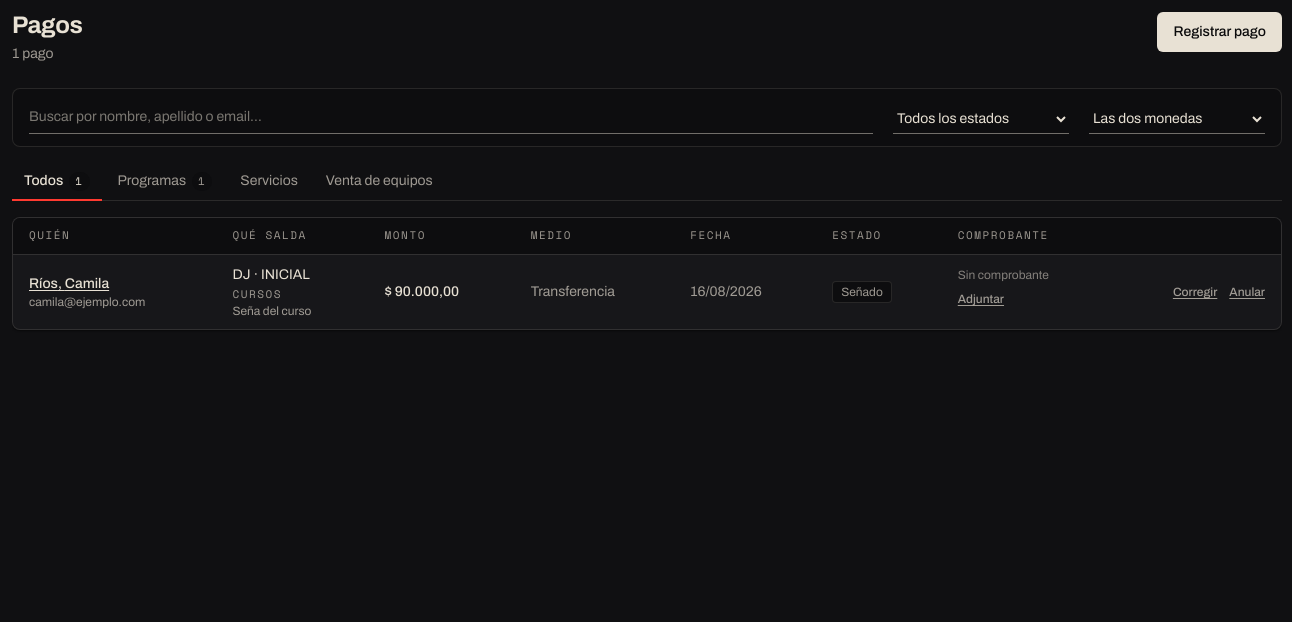
Test: las dos operaciones de reversa › sin motivo no anula nada
The image size is (1292, 622).
Click the button "Anular".
click(1247, 292)  # box [1229,284,1265,300]
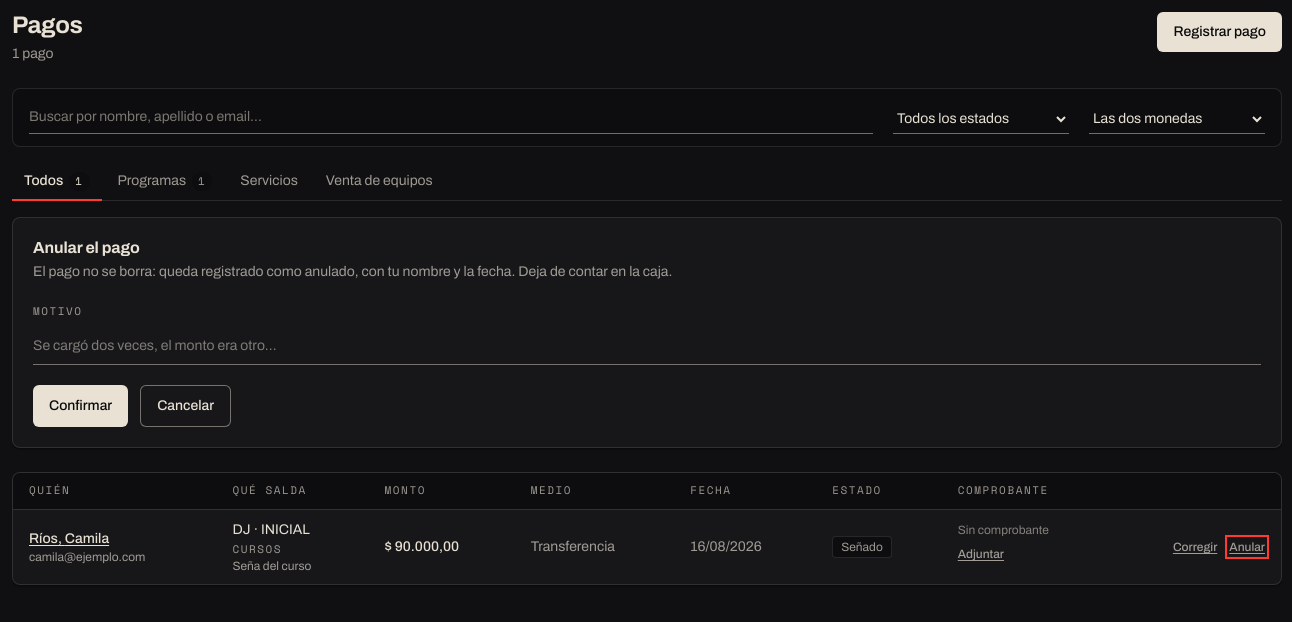
Click the button "Confirmar".
click(81, 406)  # box [33,385,128,427]
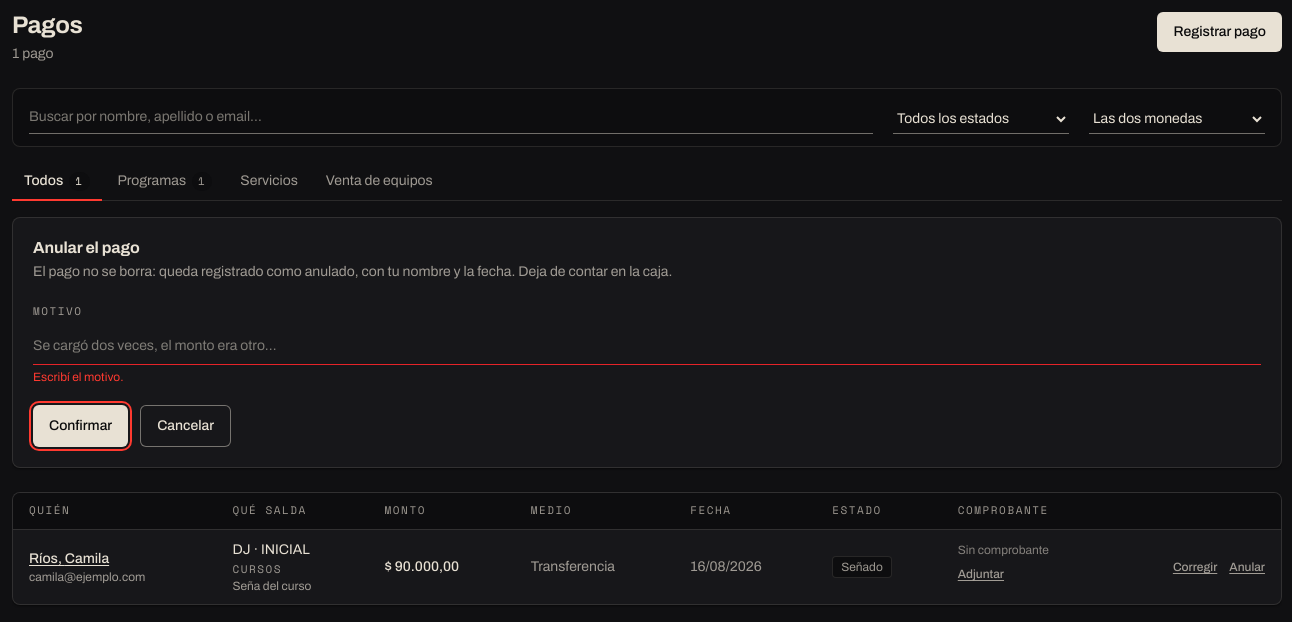
Expected: the text "Escribí el motivo." is shown, [33,370,124,384]
